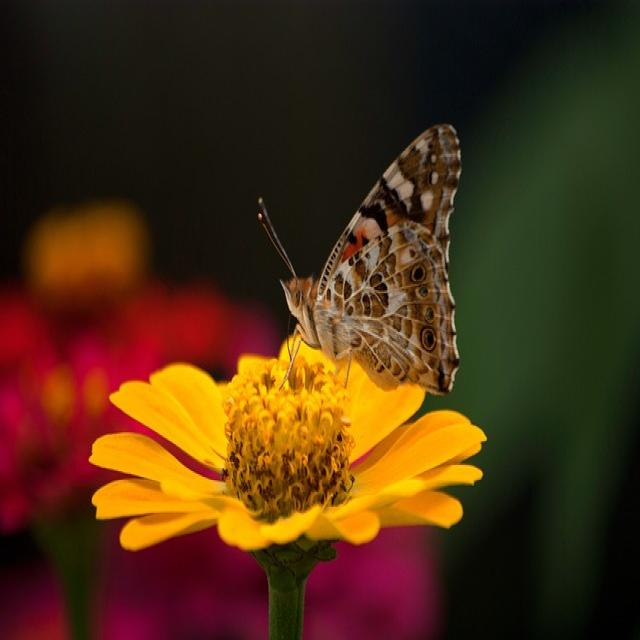butterfly: (258, 124, 462, 398)
